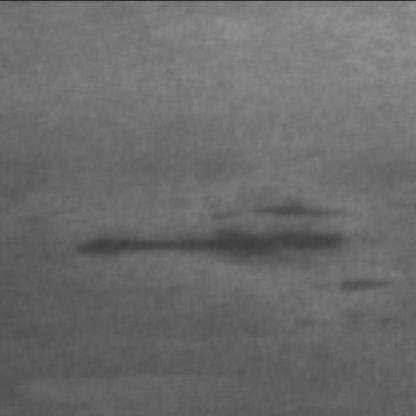inclusion: (64, 185, 354, 266)
